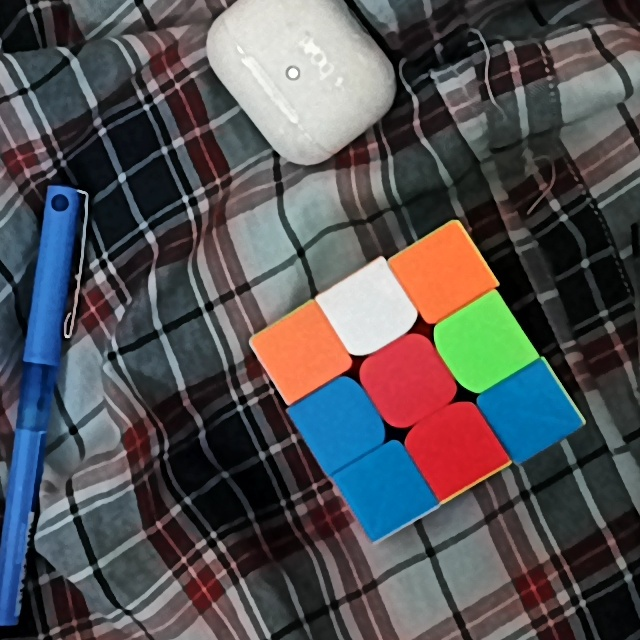tile: (451, 317, 511, 373), (499, 386, 560, 440), (427, 419, 483, 475), (412, 250, 469, 304), (358, 462, 412, 517), (313, 394, 363, 452), (380, 356, 433, 410), (339, 286, 391, 339), (276, 329, 329, 381)
